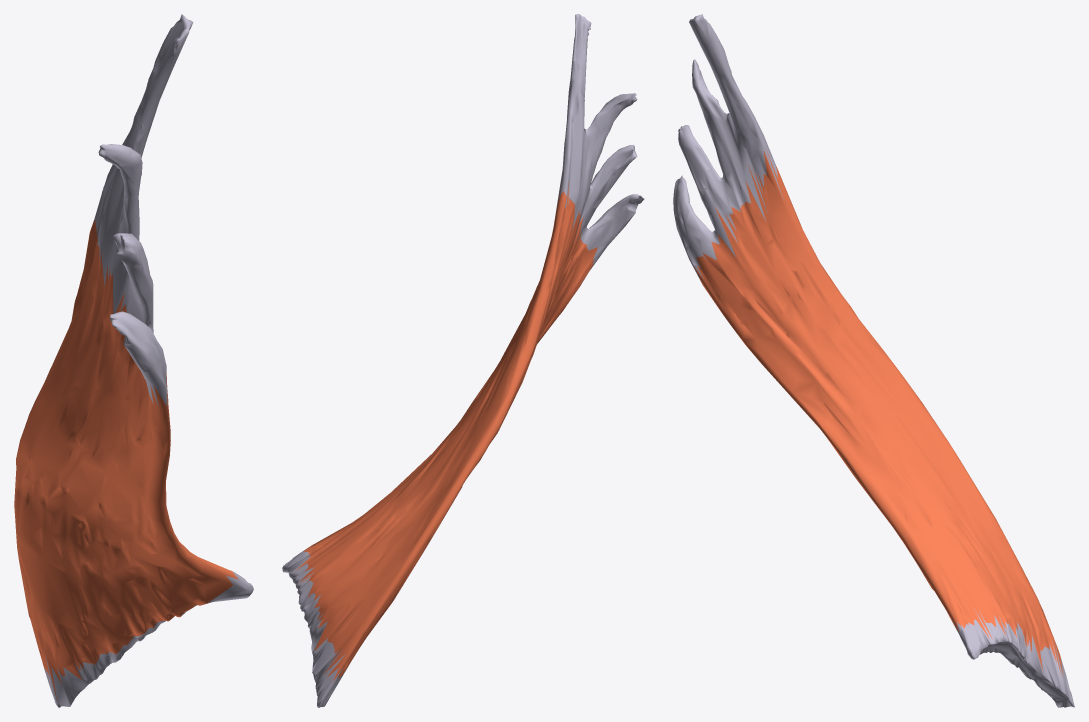
Rendered from Levator_scapulae.l_Generated_Mesh_From_X3D.388.glb.
3 renders of one model, left to right at view 1: azimuth 30°, elevation 25°; view 2: azimuth 150°, elevation 25°; view 3: azimuth 270°, elevation 25°, orthographic. The views are drawn at different scales.
Visible parts, largest first — view 1: Levator_scapulae.l_Generated_Mesh_From_X3D.388; view 2: Levator_scapulae.l_Generated_Mesh_From_X3D.388; view 3: Levator_scapulae.l_Generated_Mesh_From_X3D.388.
Part boxes in pixels (x1,y1,x2,y2): Levator_scapulae.l_Generated_Mesh_From_X3D.388: (14, 14, 253, 707); Levator_scapulae.l_Generated_Mesh_From_X3D.388: (282, 14, 644, 707); Levator_scapulae.l_Generated_Mesh_From_X3D.388: (673, 14, 1074, 707).
Size of the model in its own units: 0.0614 by 0.1529 by 0.0859.
